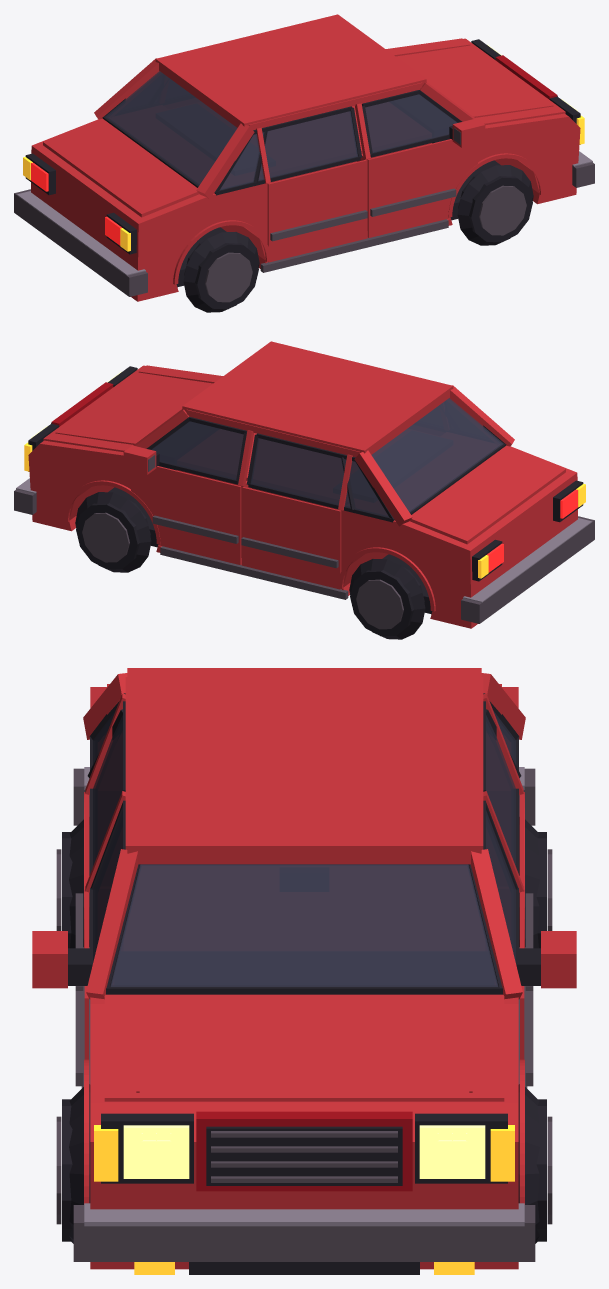
3 views of the same model, one above another, from view 1: azimuth 30°, elevation 25°; view 2: azimuth 150°, elevation 25°; view 3: azimuth 270°, elevation 25° (orthographic). The views are drawn at different scales.
Visible parts, largest first — view 1: body_pal_survivorRed, doorL_pal_survivorRed, doorRearL_pal_survivorRed, body_pal_backpackTeal, doorRearL_pal_backpackTeal, body_pal_asphalt, doorL_pal_backpackTeal, wheelRL_pal_uiDark, wheelFL_pal_uiDark, body_pal_uiDark, wheelRL_pal_asphalt, wheelFL_pal_asphalt (+7 smaller); view 2: body_pal_survivorRed, doorR_pal_survivorRed, doorRearR_pal_survivorRed, body_pal_backpackTeal, doorRearR_pal_backpackTeal, body_pal_asphalt, doorR_pal_backpackTeal, wheelRR_pal_uiDark, wheelFR_pal_uiDark, body_pal_uiDark, wheelRR_pal_asphalt, wheelFR_pal_asphalt (+7 smaller); view 3: body_pal_survivorRed, body_pal_backpackTeal, body_pal_asphalt, body_pal_uiDark, body_pal_sidewalk, lightsFront_emi_windowGlow, body_pal_blood, lightsFront_emi_schoolBusYellow, doorL_pal_survivorRed, doorR_pal_survivorRed, wheelFL_pal_uiDark, wheelFR_pal_uiDark (+14 smaller).
Part boxes in pixels (box(x1,y1,x2,y2)): body_pal_survivorRed: box(31, 14, 580, 301); doorL_pal_survivorRed: box(355, 103, 485, 237); doorRearL_pal_survivorRed: box(256, 127, 366, 262); body_pal_backpackTeal: box(105, 71, 237, 185); doorRearL_pal_backpackTeal: box(219, 111, 358, 190); body_pal_asphalt: box(14, 95, 594, 296); doorL_pal_backpackTeal: box(365, 94, 457, 152); wheelRL_pal_uiDark: box(183, 232, 259, 312); wheelFL_pal_uiDark: box(457, 165, 533, 245); body_pal_uiDark: box(25, 39, 580, 287); wheelRL_pal_asphalt: box(205, 252, 252, 302); wheelFL_pal_asphalt: box(479, 185, 526, 235); body_pal_survivorRed: box(28, 341, 577, 628); doorR_pal_survivorRed: box(123, 430, 253, 564); doorRearR_pal_survivorRed: box(242, 454, 352, 589); body_pal_backpackTeal: box(371, 398, 503, 512); doorRearR_pal_backpackTeal: box(250, 438, 389, 517); body_pal_asphalt: box(14, 422, 594, 623); doorR_pal_backpackTeal: box(151, 421, 243, 479); wheelRR_pal_uiDark: box(349, 559, 425, 639); wheelFR_pal_uiDark: box(75, 492, 151, 572); body_pal_uiDark: box(28, 366, 583, 614); wheelRR_pal_asphalt: box(356, 579, 403, 629); wheelFR_pal_asphalt: box(82, 512, 129, 562); body_pal_survivorRed: box(83, 668, 525, 1269); body_pal_backpackTeal: box(110, 864, 498, 986); body_pal_asphalt: box(73, 768, 535, 1261); body_pal_uiDark: box(101, 864, 507, 1274); body_pal_sidewalk: box(84, 767, 524, 1226); lightsFront_emi_windowGlow: box(123, 1125, 485, 1178); body_pal_blood: box(196, 1111, 412, 1191); lightsFront_emi_schoolBusYellow: box(94, 1125, 514, 1274); doorL_pal_survivorRed: box(32, 791, 125, 1059); doorR_pal_survivorRed: box(483, 791, 576, 1059); wheelFL_pal_uiDark: box(62, 1084, 90, 1243); wheelFR_pal_uiDark: box(518, 1084, 546, 1243).
Size of the model in its own units: 4.53 by 1.61 by 2.29.
